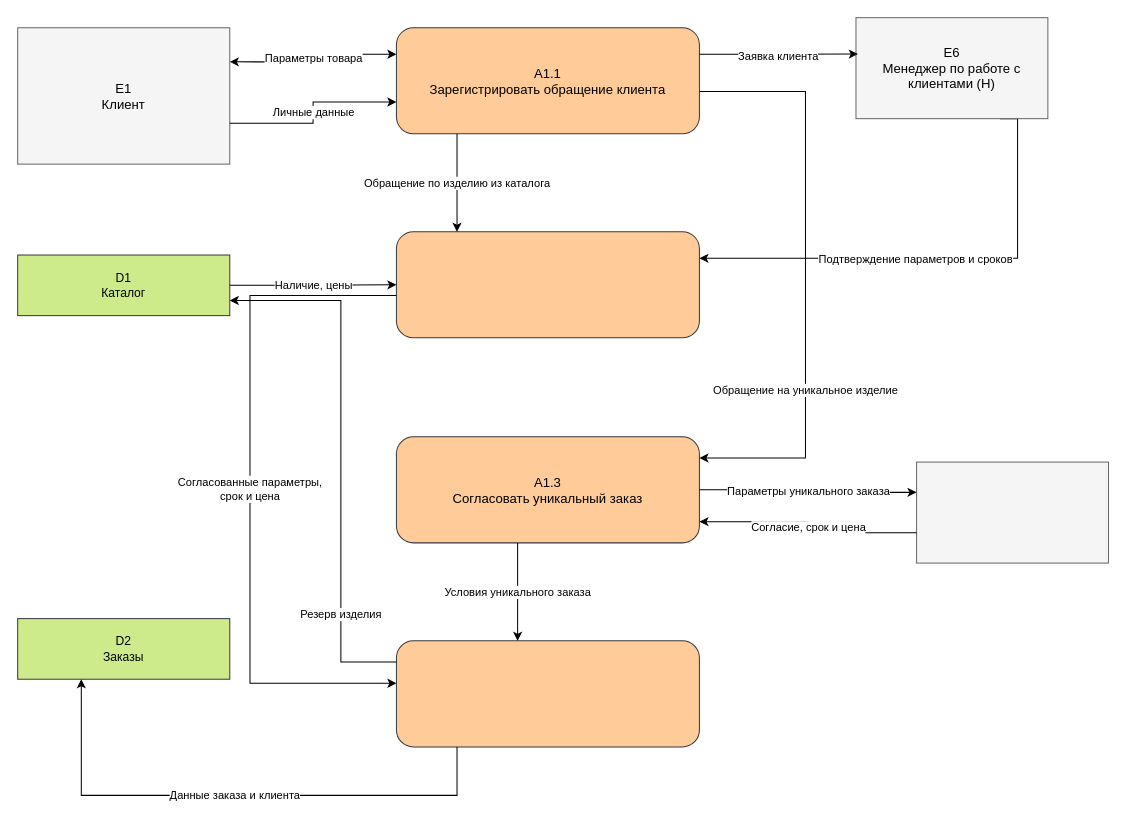
Image size: 1126x821. Some labels were removed from this diagram. Each missing label, with the centre of its shape:
"A1.2 Подобрать изделие и рассчитать цену" goes at (547,284).
"A1.4 Оформить заказ" goes at (547,693).
"E5 Мастер (А)" goes at (1012,512).
